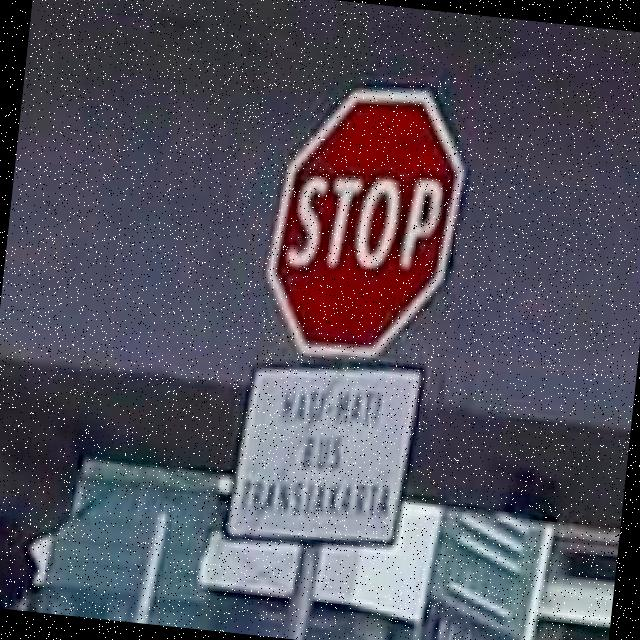Stop: (266, 81, 466, 360)
